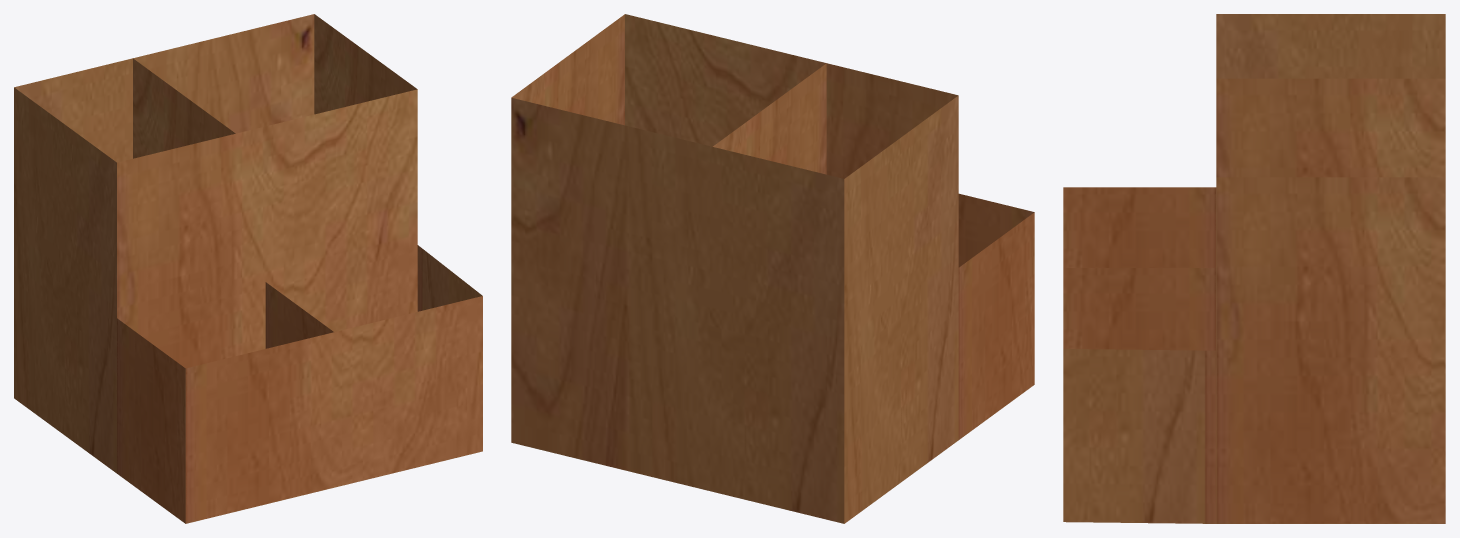
The model's file is pencilholder9.dae.
3 renders of one model, left to right at view 1: azimuth 30°, elevation 25°; view 2: azimuth 150°, elevation 25°; view 3: azimuth 270°, elevation 25°, orthographic. The views are drawn at different scales.
Parts seen in each view (by area): view 1: SketchUp (×2); view 2: SketchUp; view 3: SketchUp.
Part boxes in pixels (x1,y1,x2,y2): SketchUp (×2): [14, 14, 482, 523]; SketchUp: [511, 14, 1034, 523]; SketchUp: [1063, 14, 1445, 523].
Bounding box in the file's own units: 4.52 × 4.47 × 4.47.
Materials: 1 (1 with a texture image).
